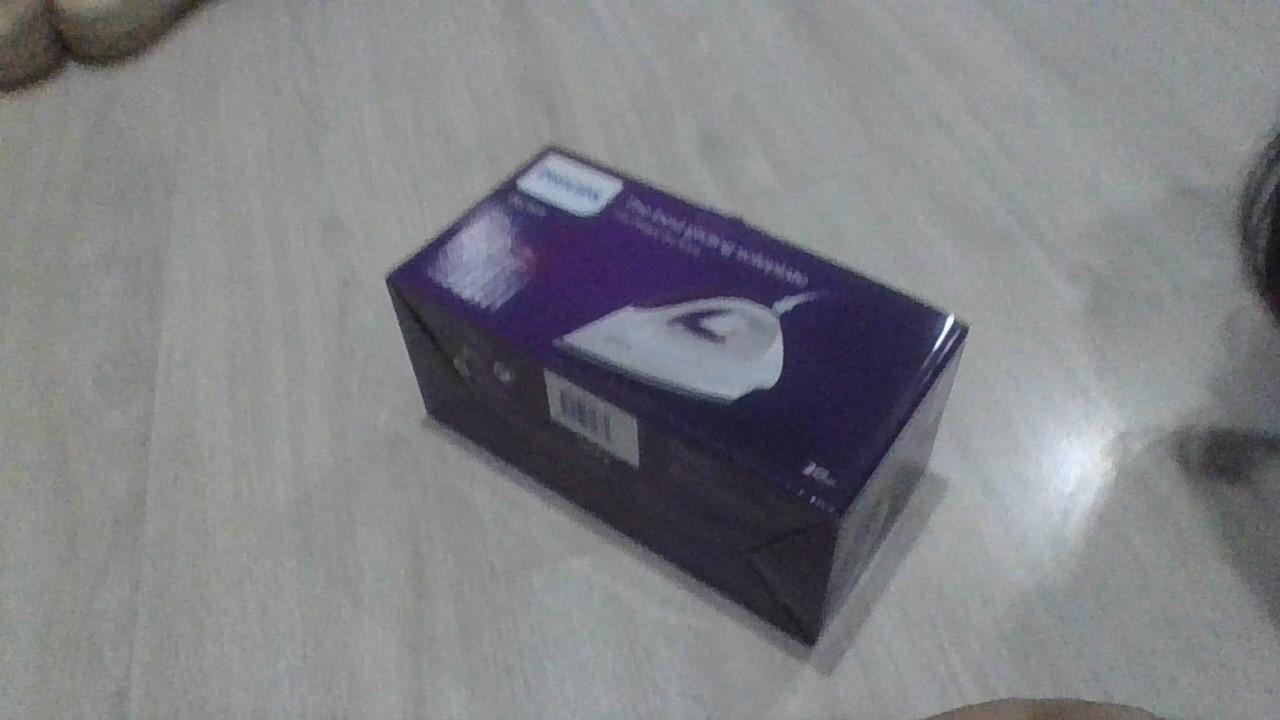IRON: (380, 141, 973, 659)
